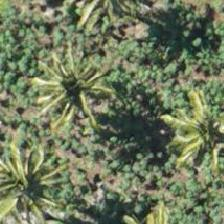coconut_tree: (32, 51, 122, 141), (158, 83, 223, 173), (0, 142, 67, 223)
